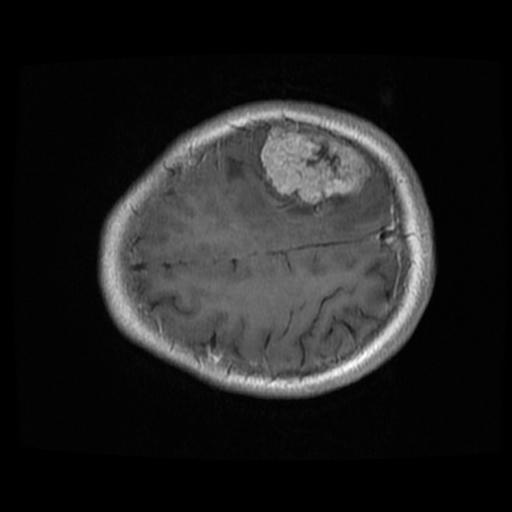meningioma: (260, 124, 369, 205)
